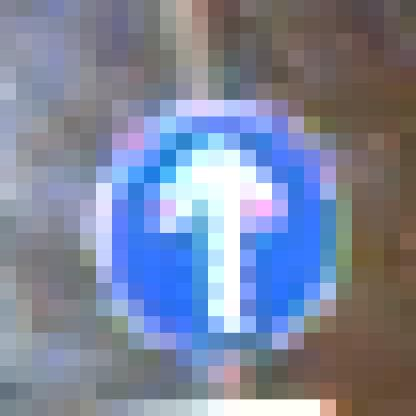AheadOnly: (81, 84, 337, 334)
